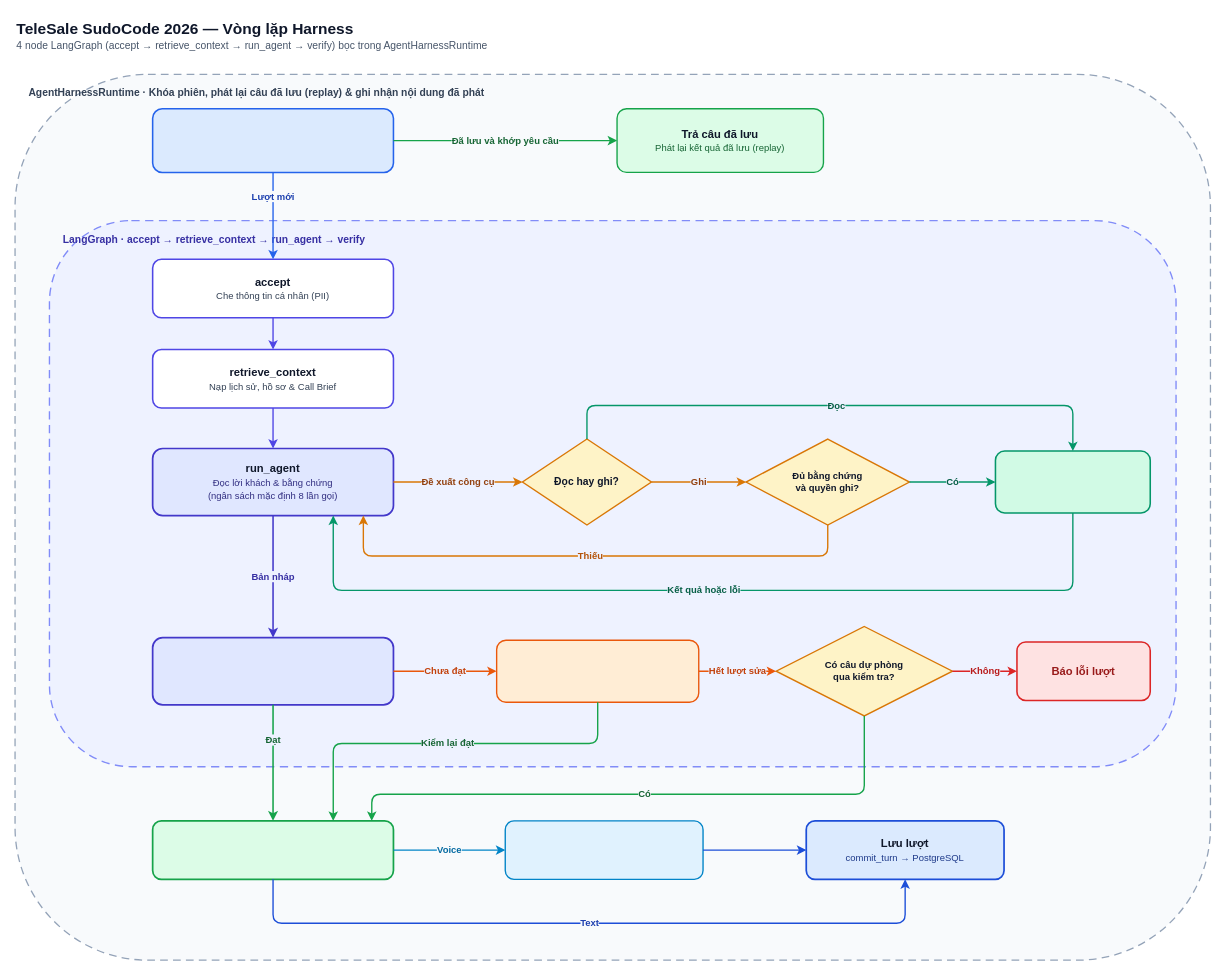
Image size: 1226x975. Some labels were removed from this diagram. Here are the shapes that lost their labels. From the top down, the centre of each, then its label:
At (272,140): "Nhận lượt Kiểm danh tính & yêu cầu gửi lại".
At (1072,481): "Gọi MCP Catalog · Order · Knowledge".
At (272,670): "verify Kiểm câu trả lời (thông số, giá, chính sách, biên nhận)".
At (597,670): "Tra bổ sung hoặc sửa câu Trong giới hạn cho phép".
At (272,850): "Phát câu đã kiểm Giao câu trả lời cho kênh".
At (603,850): "Nhận số ký tự đã phát played_chars (hết 300s → 0)".
